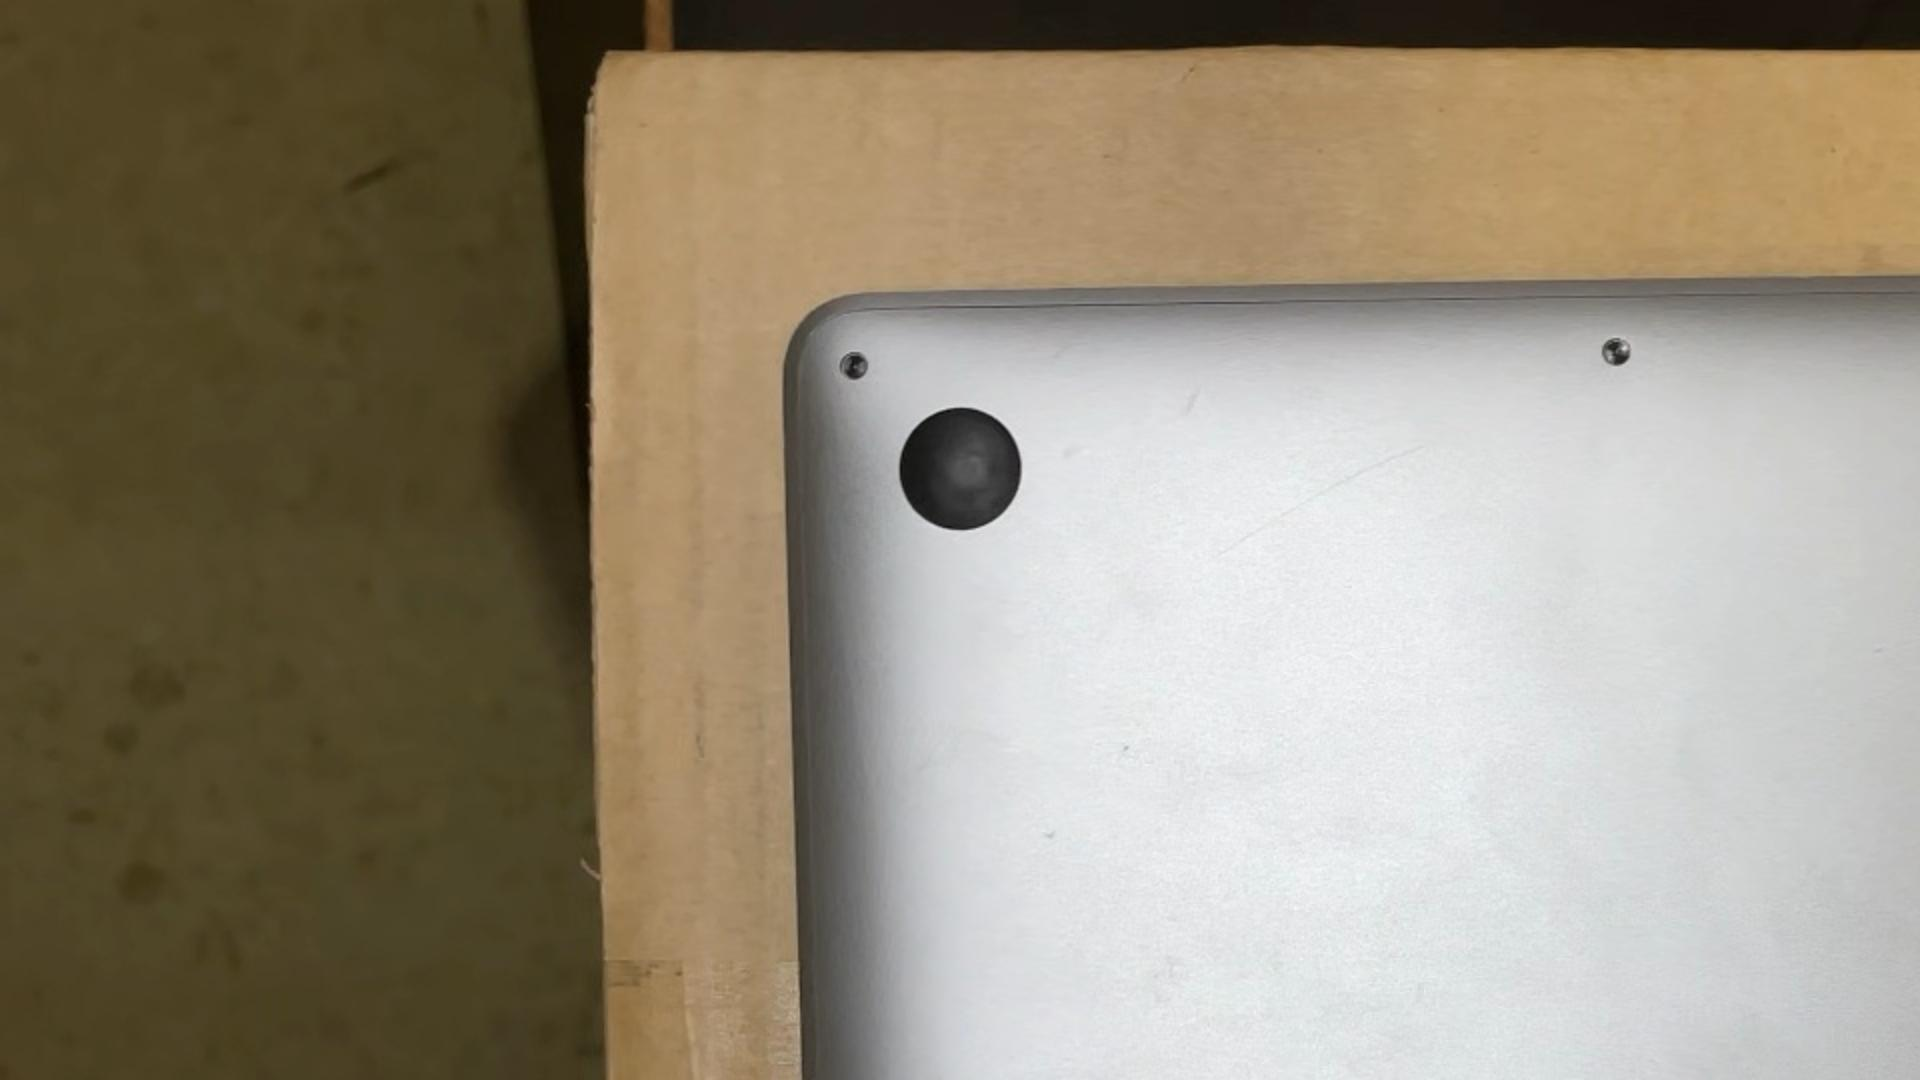scratches: (1215, 440, 1429, 559)
